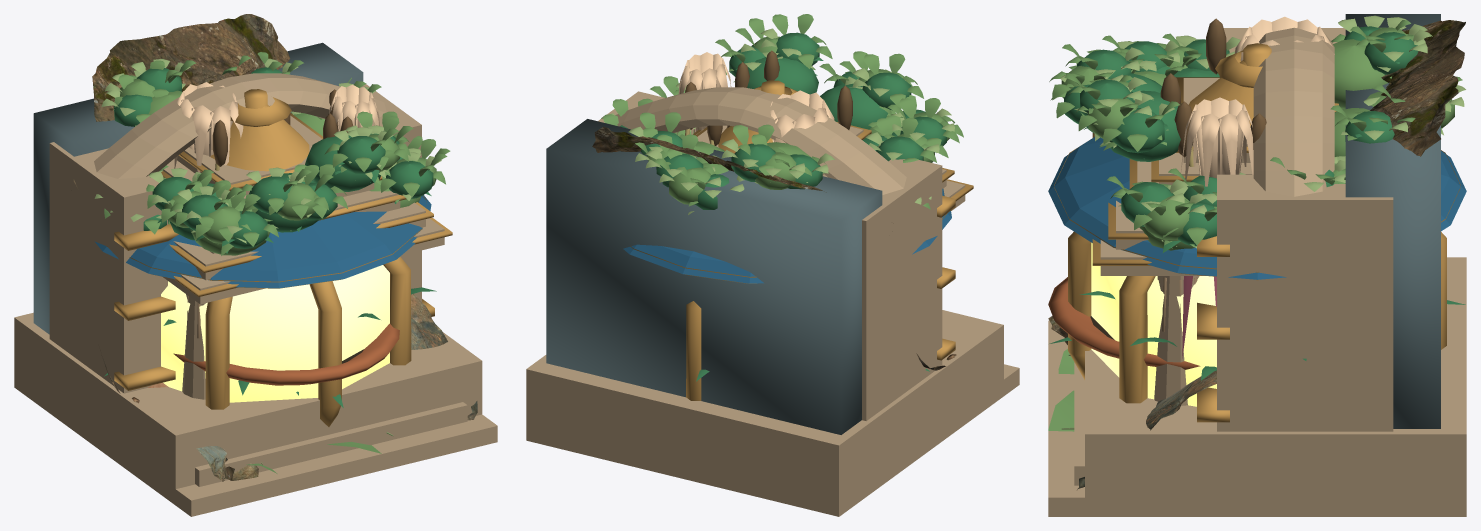
Rendered from nature-replacement.glb.
3 renders of one model, left to right at view 1: azimuth 30°, elevation 25°; view 2: azimuth 150°, elevation 25°; view 3: azimuth 270°, elevation 25°, orthographic. The views are drawn at different scales.
Visible parts, largest first — view 1: diya_niche, transit_lantern, swamp_shrine, mangrove_roots, rock_face_01, lotus_cluster, reed_cluster; view 2: diya_niche, mangrove_roots, swamp_shrine, transit_lantern, lotus_cluster, rock_face_01, reed_cluster; view 3: diya_niche, mangrove_roots, transit_lantern, swamp_shrine, rock_face_01, lotus_cluster, reed_cluster.
Part boxes in pixels (bbox=[...]): diya_niche: bbox=[14, 42, 482, 505]; transit_lantern: bbox=[94, 89, 431, 426]; swamp_shrine: bbox=[14, 105, 497, 516]; mangrove_roots: bbox=[94, 52, 450, 255]; rock_face_01: bbox=[73, 14, 477, 481]; lotus_cluster: bbox=[174, 82, 393, 473]; reed_cluster: bbox=[104, 89, 436, 407]; diya_niche: bbox=[526, 87, 1003, 516]; mangrove_roots: bbox=[601, 14, 963, 214]; swamp_shrine: bbox=[526, 122, 1019, 516]; transit_lantern: bbox=[623, 80, 951, 400]; lotus_cluster: bbox=[677, 52, 834, 143]; rock_face_01: bbox=[592, 126, 956, 370]; reed_cluster: bbox=[685, 50, 929, 381]; diya_niche: bbox=[1048, 14, 1466, 516]; mangrove_roots: bbox=[1049, 15, 1465, 252]; transit_lantern: bbox=[1048, 43, 1466, 406]; swamp_shrine: bbox=[1048, 60, 1466, 516]; rock_face_01: bbox=[1048, 20, 1465, 489]; lotus_cluster: bbox=[1048, 16, 1334, 431]; reed_cluster: bbox=[1049, 18, 1465, 380].
Size of the model in its own units: 1 by 1 by 1.
19 materials, 1 textured.
